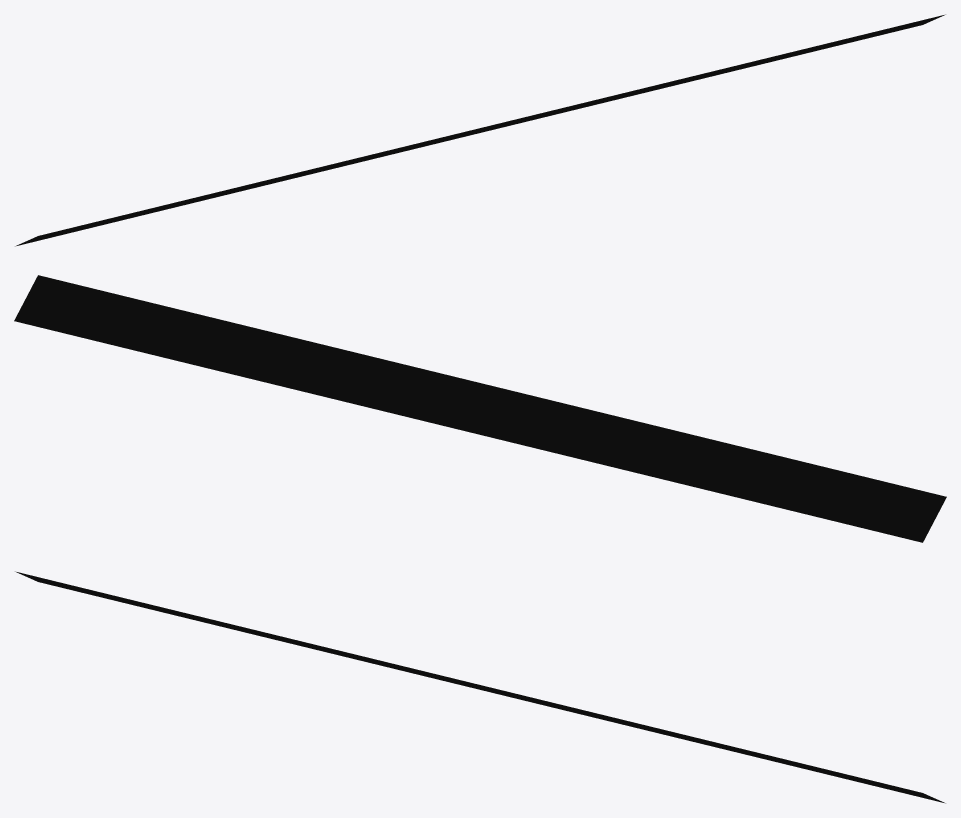
3 renders of one model, top to bottom at view 1: azimuth 30°, elevation 25°; view 2: azimuth 150°, elevation 25°; view 3: azimuth 330°, elevation 25°, orthographic.
Size of the model in its own units: 1 by 0.0299 by 0.0459.
Materials: 1 (1 with a texture image).
